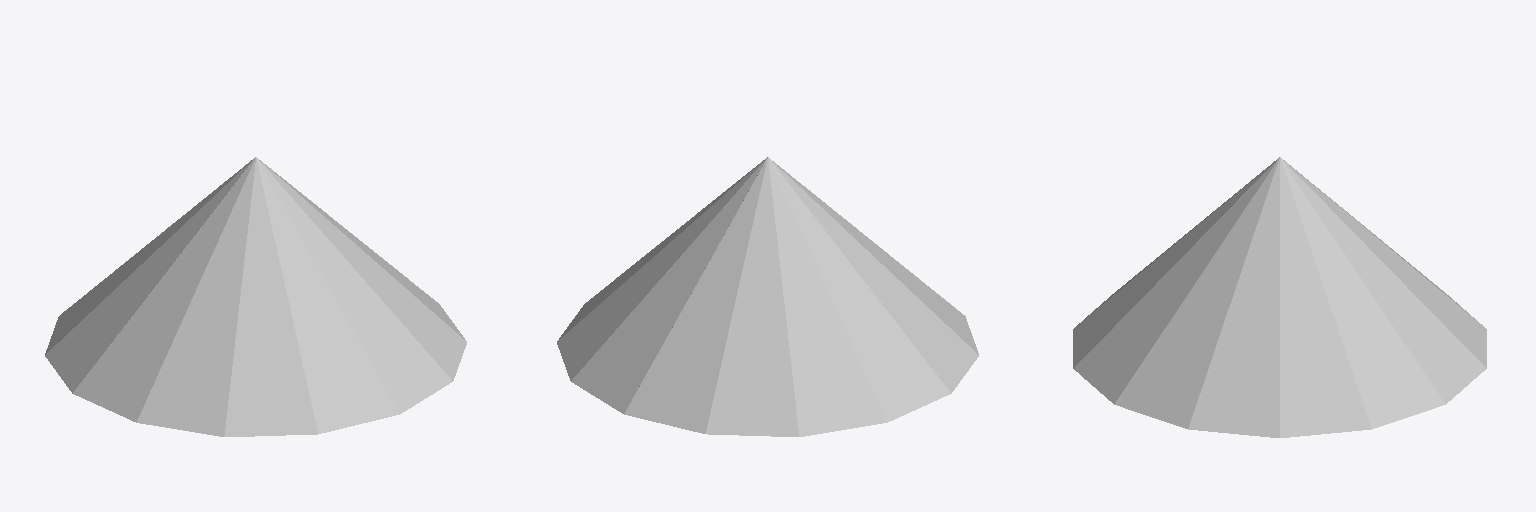
File: arrow8.obj
The picture shows the model from 3 angles: view 1: azimuth 30°, elevation 25°; view 2: azimuth 150°, elevation 25°; view 3: azimuth 270°, elevation 25°; orthographic projection.
Size of the model in its own units: 0.6001 by 0.31 by 0.5852.